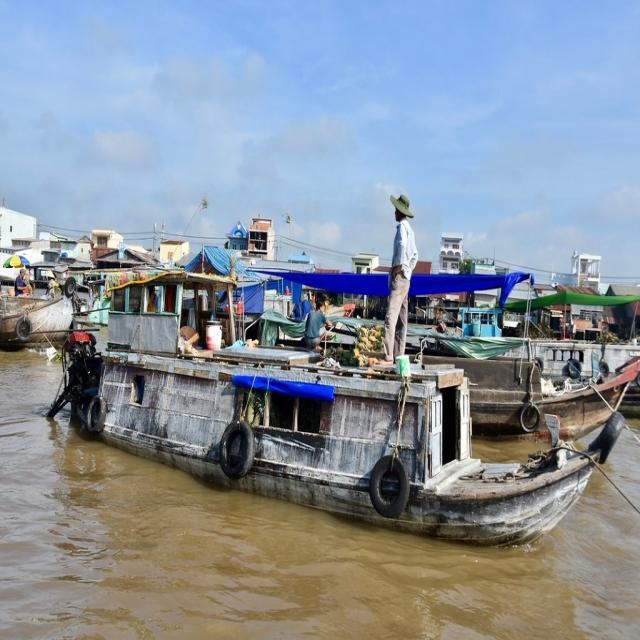boat: (52, 318, 610, 551)
